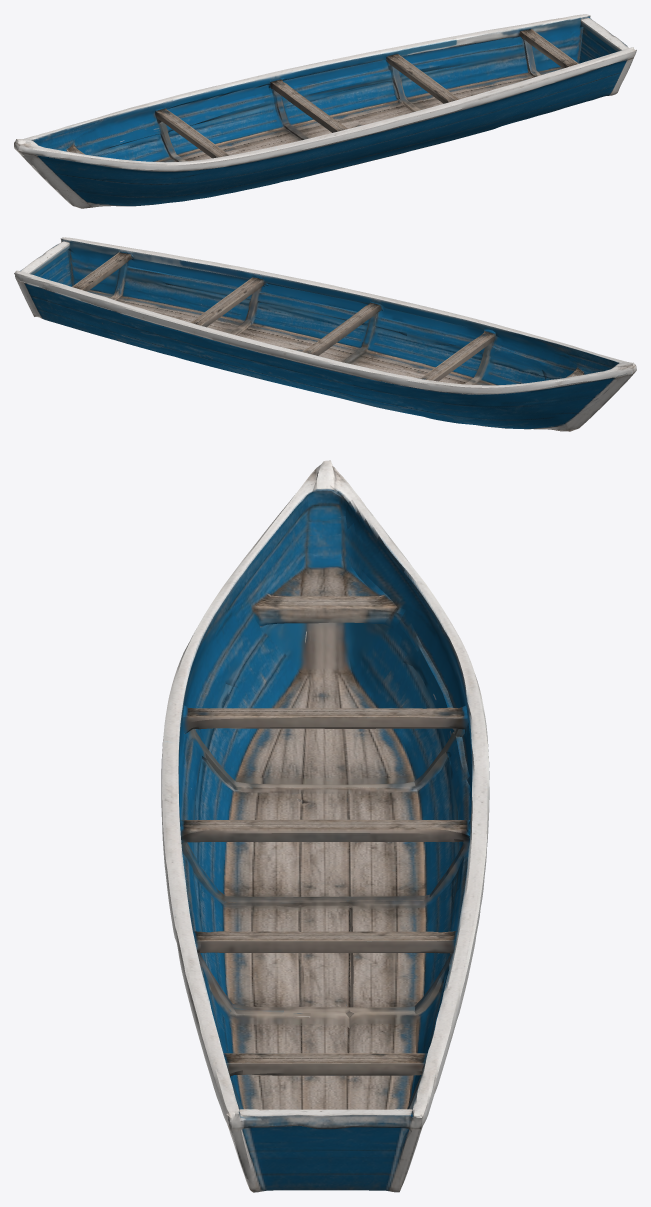
File: canoaPro.obj
The picture shows the model from 3 angles, top to bottom: view 1: azimuth 30°, elevation 25°; view 2: azimuth 150°, elevation 25°; view 3: azimuth 270°, elevation 25°; orthographic projection. The views are drawn at different scales.
Visible parts, largest first — view 1: canoaPro; view 2: canoaPro; view 3: canoaPro.
Boxes of the visible parts, x1,y1,x2,y2 form: canoaPro: [14, 14, 636, 208]; canoaPro: [14, 237, 636, 431]; canoaPro: [161, 460, 489, 1192].
Size of the model in its own units: 2.85 by 0.3784 by 0.6794.
Materials: 1 (1 with a texture image).
